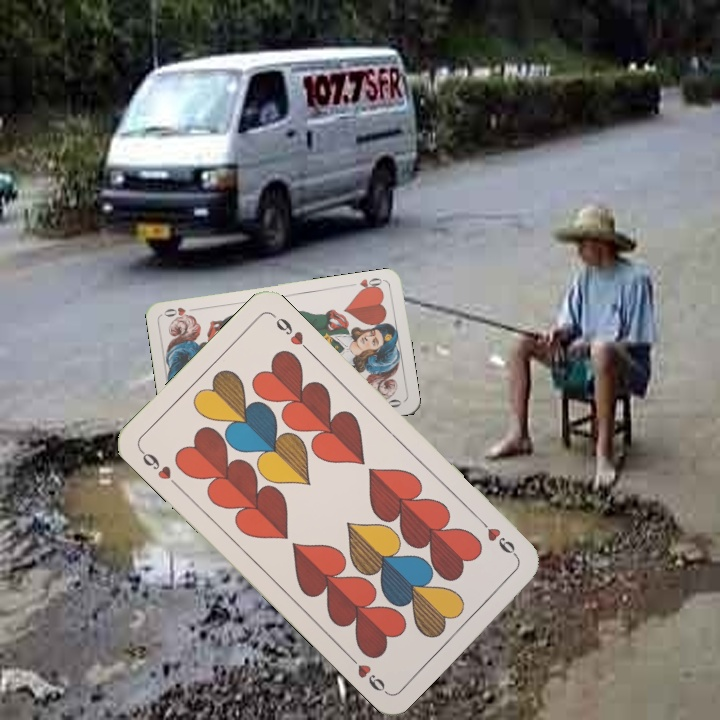H9: (135, 445, 182, 491), (475, 514, 520, 561)
HO: (354, 274, 387, 295)
